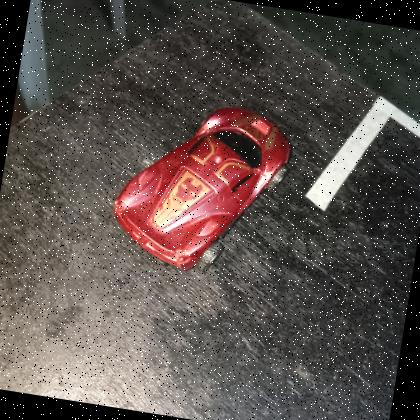Car: (113, 108, 291, 272)
